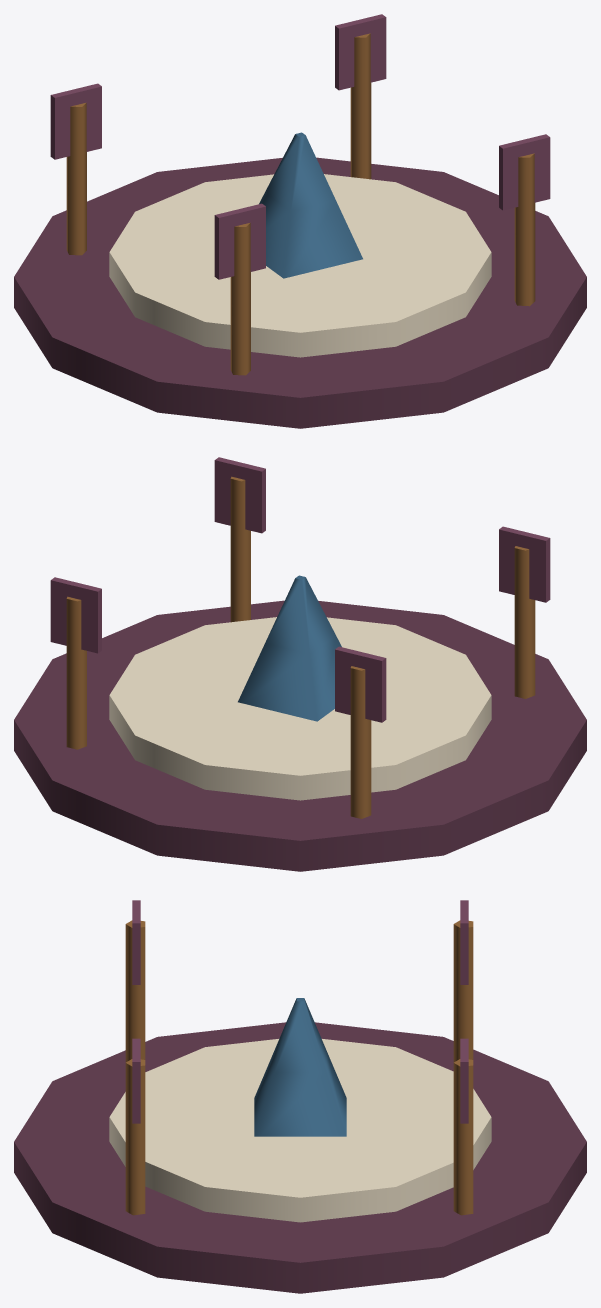
File: fa_tan_qu.glb
3 views of the same model, one above another, from view 1: azimuth 30°, elevation 25°; view 2: azimuth 150°, elevation 25°; view 3: azimuth 270°, elevation 25° (orthographic).
Visible parts, largest first — view 1: _MeshInstance3D_160, _MeshInstance3D_161, _MeshInstance3D_170, _MeshInstance3D_162, _MeshInstance3D_164, _MeshInstance3D_166, _MeshInstance3D_168, _MeshInstance3D_163, _MeshInstance3D_167, _MeshInstance3D_165, _MeshInstance3D_169; view 2: _MeshInstance3D_160, _MeshInstance3D_161, _MeshInstance3D_170, _MeshInstance3D_164, _MeshInstance3D_166, _MeshInstance3D_168, _MeshInstance3D_162, _MeshInstance3D_165, _MeshInstance3D_169, _MeshInstance3D_163, _MeshInstance3D_167; view 3: _MeshInstance3D_160, _MeshInstance3D_161, _MeshInstance3D_170, _MeshInstance3D_162, _MeshInstance3D_168, _MeshInstance3D_166, _MeshInstance3D_164, _MeshInstance3D_163, _MeshInstance3D_169, _MeshInstance3D_165, _MeshInstance3D_167.
Boxes of the visible parts, <box> form: _MeshInstance3D_160: <box>14,157,586,428</box>; _MeshInstance3D_161: <box>109,174,491,357</box>; _MeshInstance3D_170: <box>259,132,362,278</box>; _MeshInstance3D_162: <box>514,153,535,306</box>; _MeshInstance3D_164: <box>230,222,250,375</box>; _MeshInstance3D_166: <box>66,102,86,255</box>; _MeshInstance3D_168: <box>350,33,371,179</box>; _MeshInstance3D_163: <box>499,134,550,210</box>; _MeshInstance3D_167: <box>50,83,101,159</box>; _MeshInstance3D_165: <box>214,203,265,279</box>; _MeshInstance3D_169: <box>335,14,386,90</box>; _MeshInstance3D_160: <box>14,600,586,871</box>; _MeshInstance3D_161: <box>109,617,491,800</box>; _MeshInstance3D_170: <box>238,575,341,721</box>; _MeshInstance3D_164: <box>514,546,535,698</box>; _MeshInstance3D_166: <box>350,666,371,818</box>; _MeshInstance3D_168: <box>66,596,86,749</box>; _MeshInstance3D_162: <box>230,476,250,622</box>; _MeshInstance3D_165: <box>499,526,550,602</box>; _MeshInstance3D_169: <box>50,577,101,653</box>; _MeshInstance3D_163: <box>214,457,265,533</box>; _MeshInstance3D_167: <box>335,646,386,722</box>; _MeshInstance3D_160: <box>14,1022,586,1293</box>; _MeshInstance3D_161: <box>109,1039,491,1222</box>; _MeshInstance3D_170: <box>254,998,346,1136</box>; _MeshInstance3D_162: <box>125,1059,145,1215</box>; _MeshInstance3D_168: <box>453,1059,473,1215</box>; _MeshInstance3D_166: <box>453,920,473,1062</box>; _MeshInstance3D_164: <box>125,920,145,1062</box>; _MeshInstance3D_163: <box>132,1038,140,1123</box>; _MeshInstance3D_169: <box>460,1038,468,1123</box>; _MeshInstance3D_165: <box>132,900,140,984</box>; _MeshInstance3D_167: <box>460,900,468,984</box>.
Bounding box in the file's own units: 0.84 × 0.31 × 0.84.
